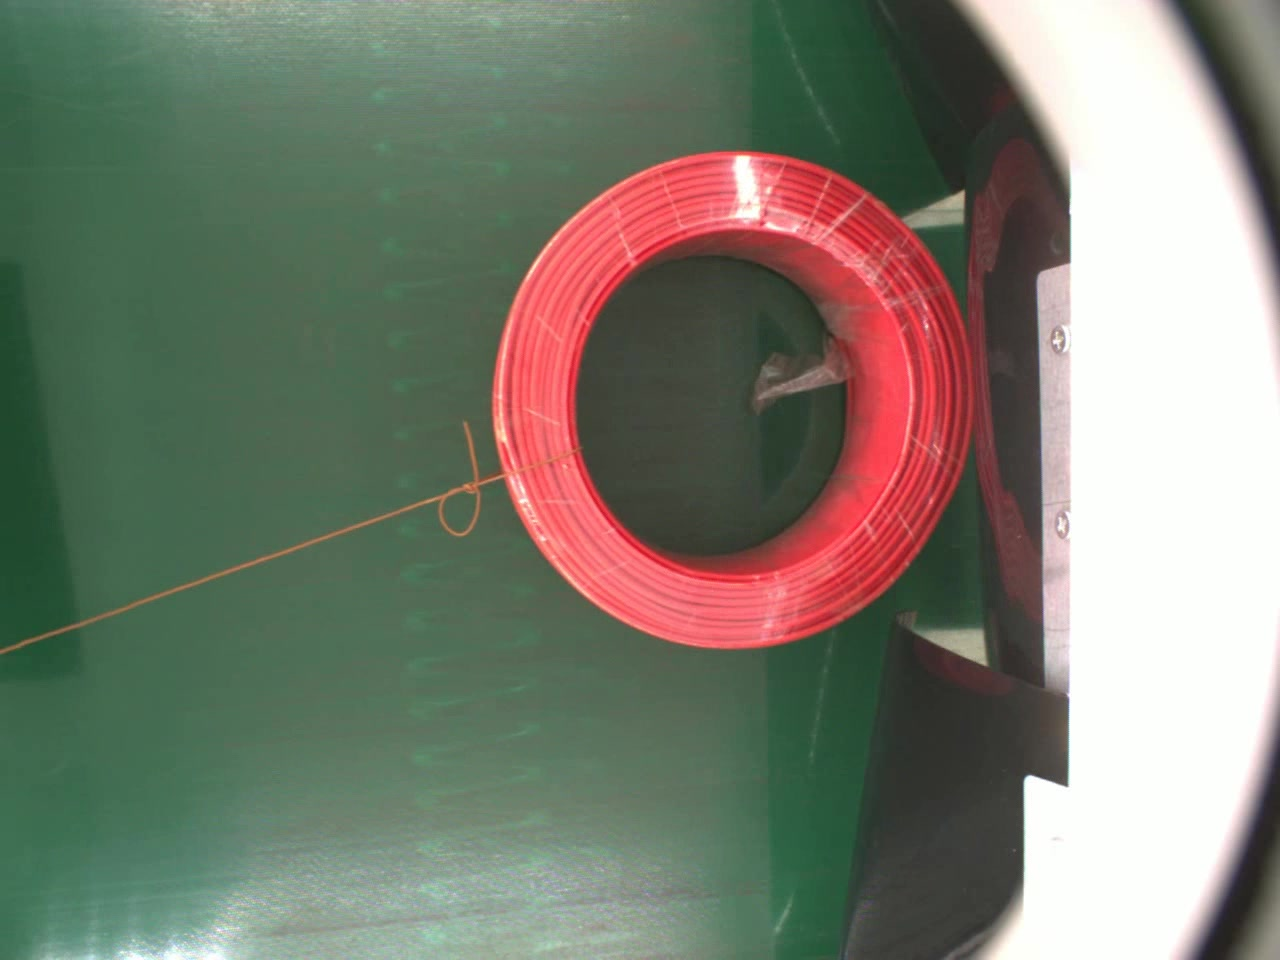red: (487, 148, 979, 653)
